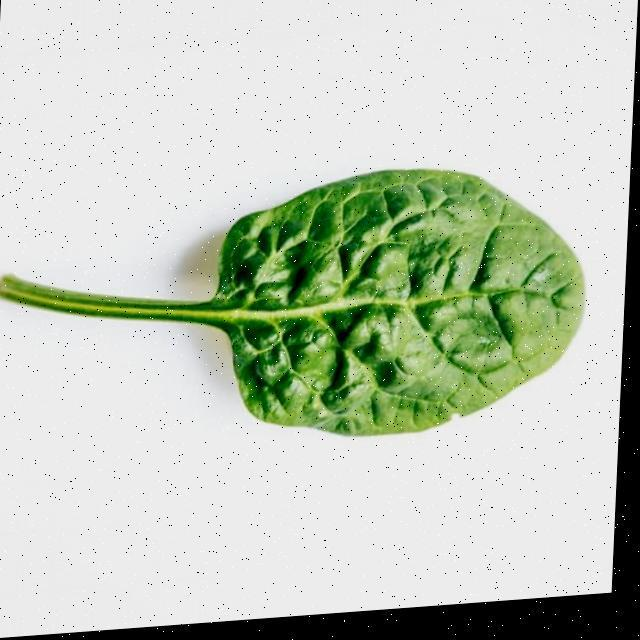Spinach: (0, 146, 603, 475)
